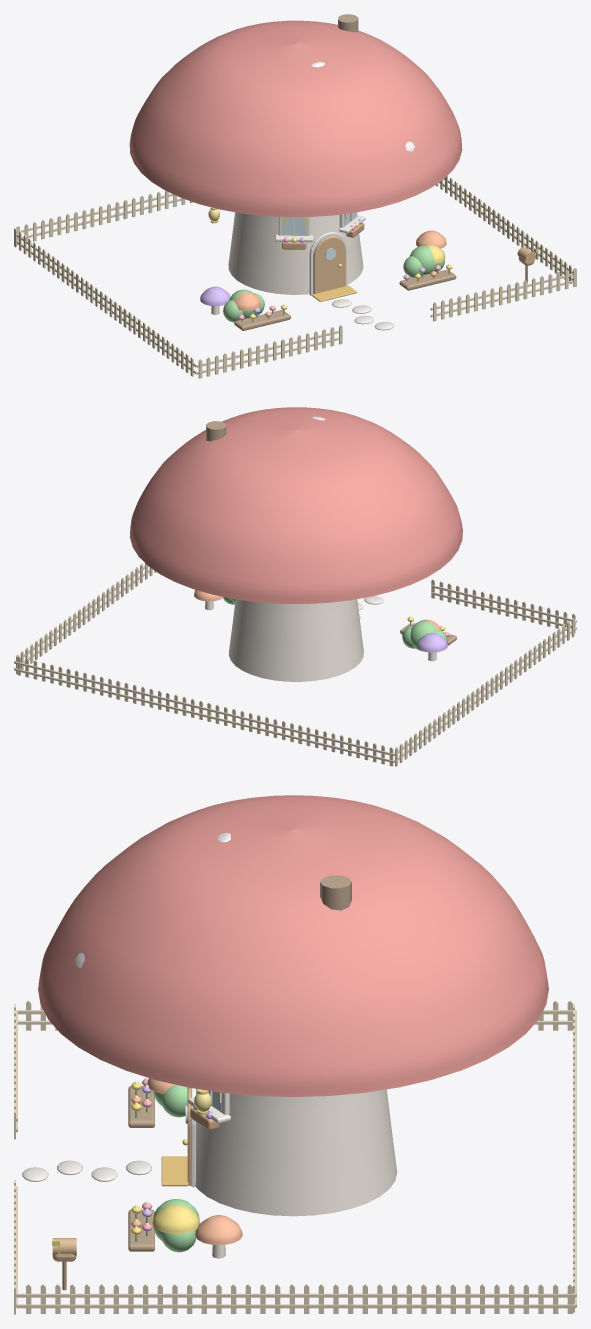
Rendered from building_forest_L08.glb.
3 views of the same model, one above another, from view 1: azimuth 30°, elevation 25°; view 2: azimuth 150°, elevation 25°; view 3: azimuth 270°, elevation 25° (orthographic). The views are drawn at different scales.
Parts seen in each view (by area): view 1: Body, forest_L8; view 2: Body, forest_L8; view 3: Body, forest_L8.
Boxes of the visible parts, x1,y1,x2,y2 form: Body: (129, 14, 462, 314); forest_L8: (14, 175, 576, 378); Body: (129, 407, 462, 681); forest_L8: (14, 563, 576, 766); Body: (38, 795, 548, 1258); forest_L8: (14, 1001, 576, 1314).
Size of the model in its own units: 25.35 by 14.38 by 21.15.
